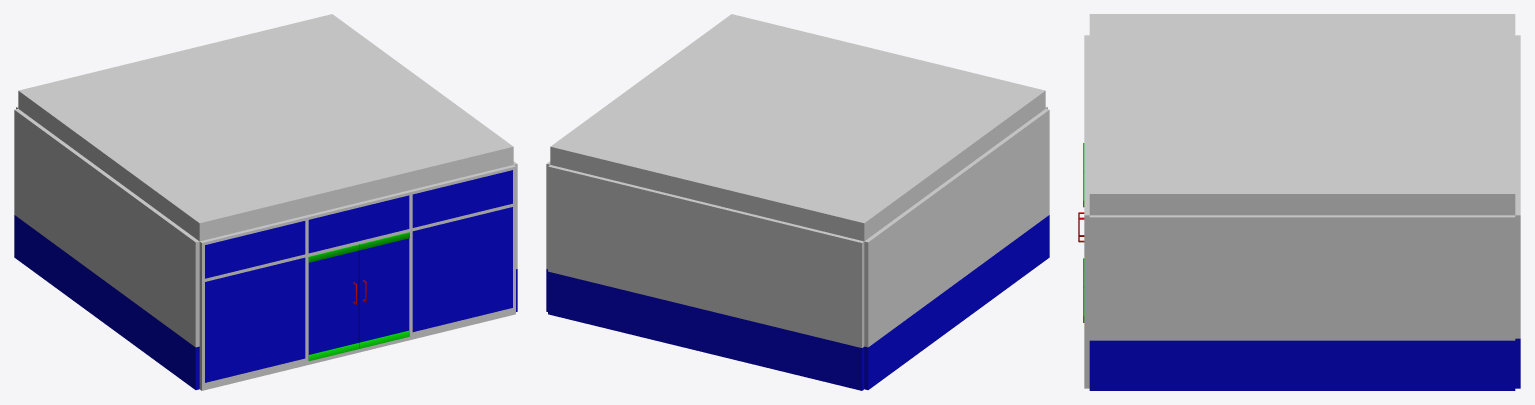
The model's file is Shop.fbx.
3 renders of one model, left to right at view 1: azimuth 30°, elevation 25°; view 2: azimuth 150°, elevation 25°; view 3: azimuth 270°, elevation 25°, orthographic. The views are drawn at different scales.
Visible parts, largest first — view 1: Cube.240, Cube.234, Cube.002, Cube.239; view 2: Cube.240, Cube.001, Cube.002; view 3: Cube.240, Cube.003, Cube.001, Cube.234.
Boxes of the visible parts, x1,y1,x2,y2 form: Cube.240: (18,14,513,241); Cube.234: (199,165,515,390); Cube.002: (14,109,199,389); Cube.239: (308,232,409,361); Cube.240: (550,14,1045,241); Cube.001: (548,165,864,390); Cube.002: (864,109,1049,389); Cube.240: (1089,14,1515,215); Cube.003: (1089,215,1515,390); Cube.001: (1515,35,1520,388); Cube.234: (1084,35,1089,388).
Bounding box in the file's own units: 820 × 404 × 831.
